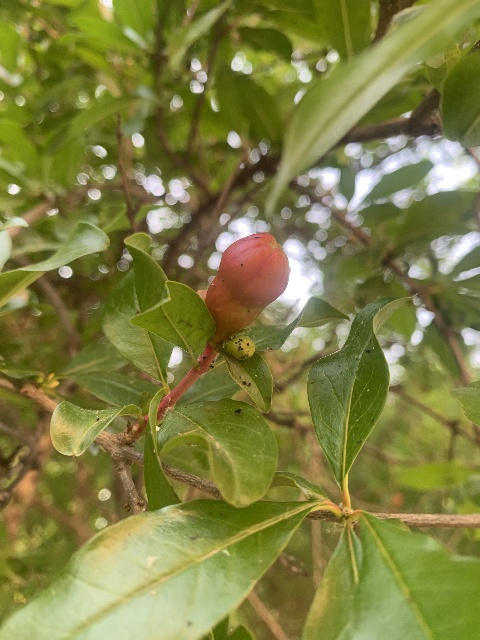bud: (203, 231, 290, 340)
